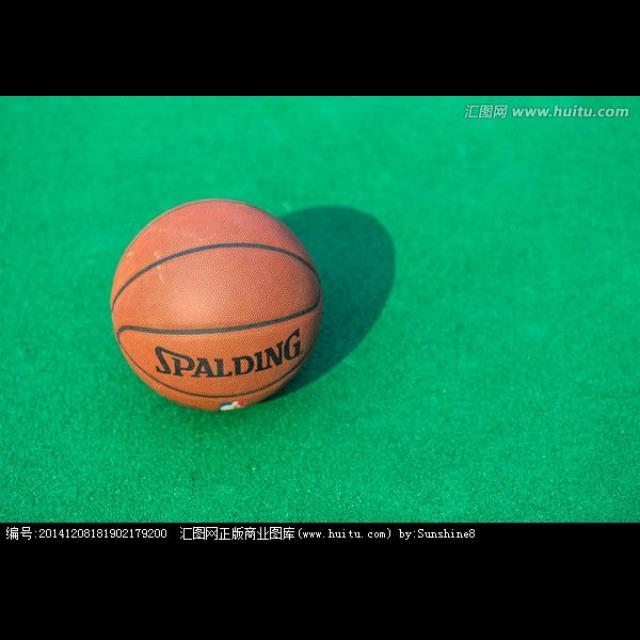basketball: (111, 199, 322, 411)
